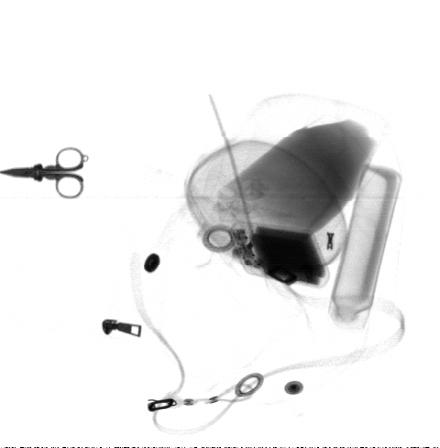Powerbank: (229, 219, 331, 289)
Scissors: (0, 144, 88, 202)
